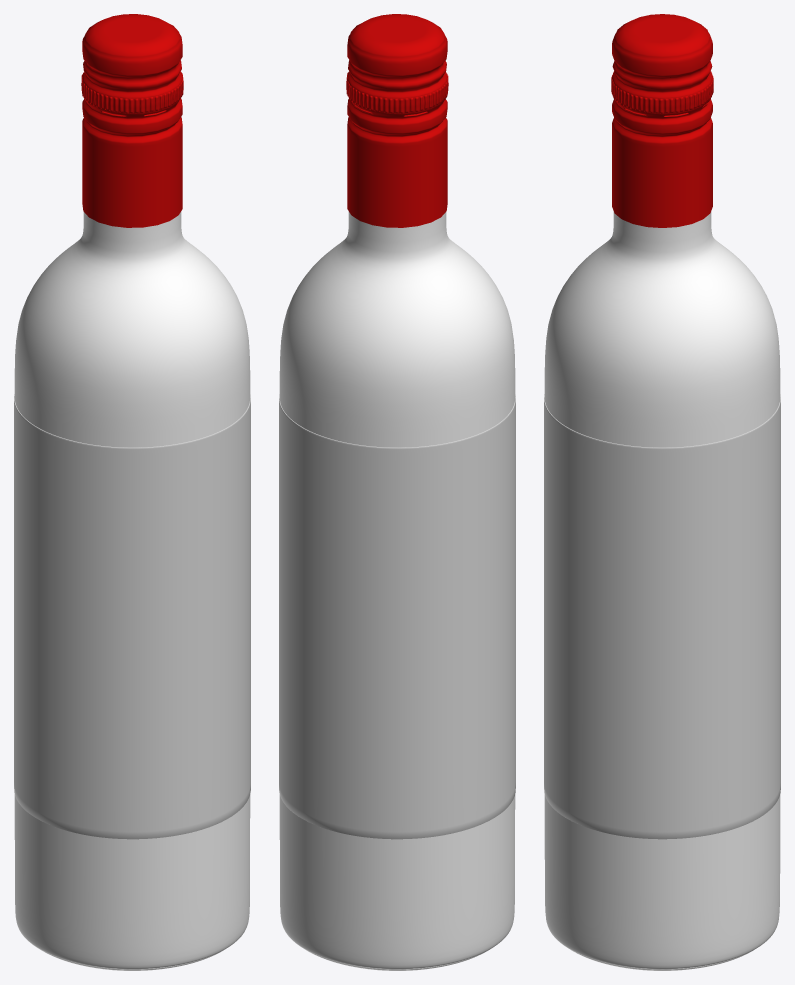
The model's file is bottle3.glb.
The picture shows the model from 3 angles, left to right: view 1: azimuth 30°, elevation 25°; view 2: azimuth 150°, elevation 25°; view 3: azimuth 270°, elevation 25°; orthographic projection.
Visible parts, largest first — view 1: BottleOnlyFinal; view 2: BottleOnlyFinal; view 3: BottleOnlyFinal.
Boxes of the visible parts, <box> form: BottleOnlyFinal: <box>14,14,250,970</box>; BottleOnlyFinal: <box>279,14,515,970</box>; BottleOnlyFinal: <box>544,14,780,970</box>.
Size of the model in its own units: 4.05 by 16.97 by 4.05.
